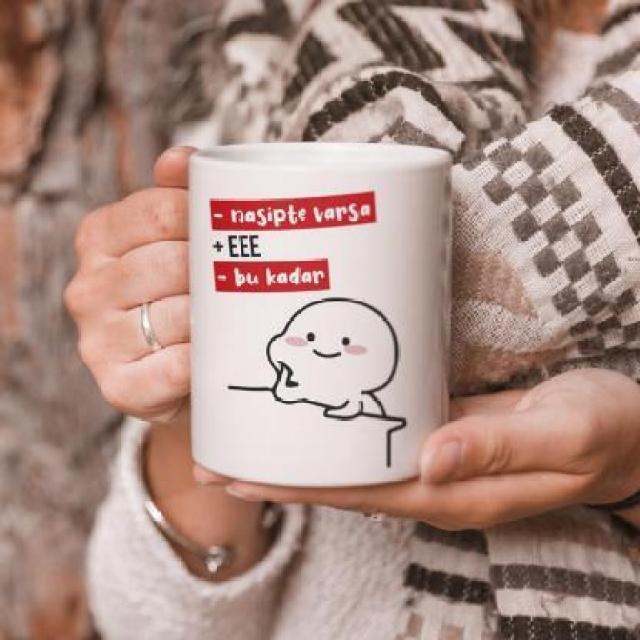taza: (185, 138, 456, 484)
